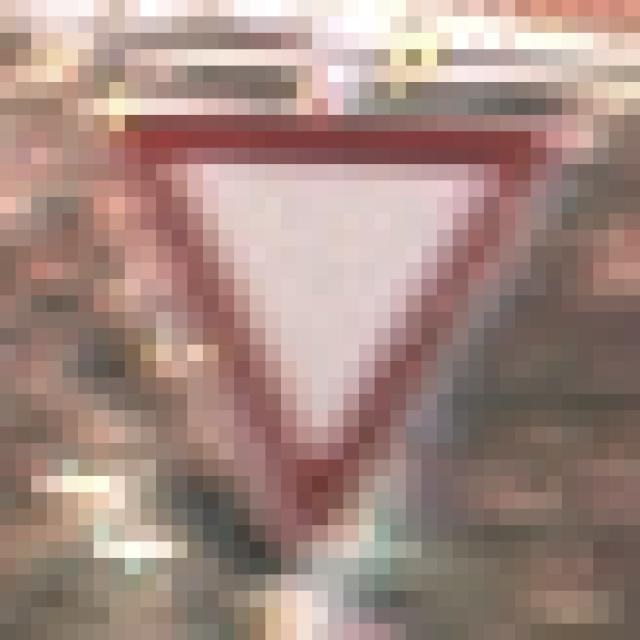Give Way: (79, 83, 563, 559)
